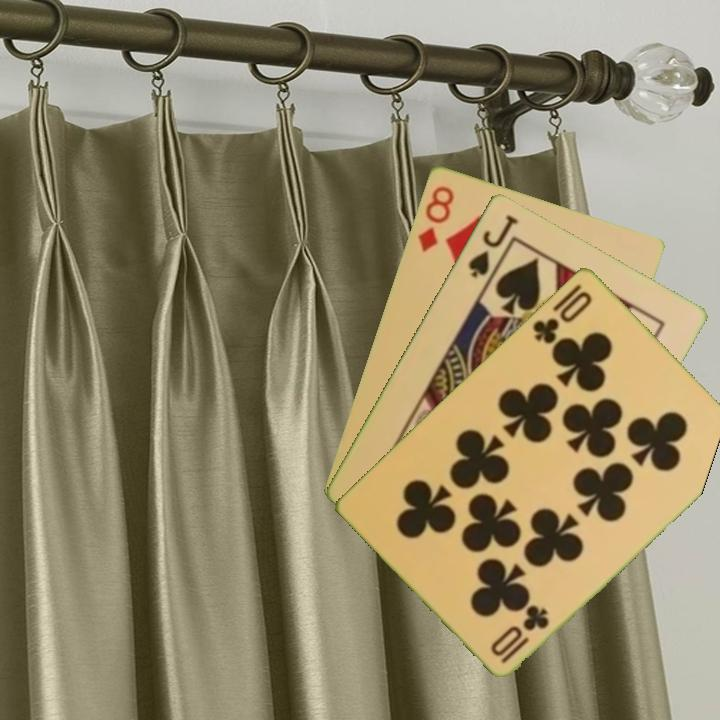10c: (528, 286, 595, 347), (497, 601, 552, 666)
8d: (413, 181, 457, 255)
Js: (464, 210, 521, 280)
